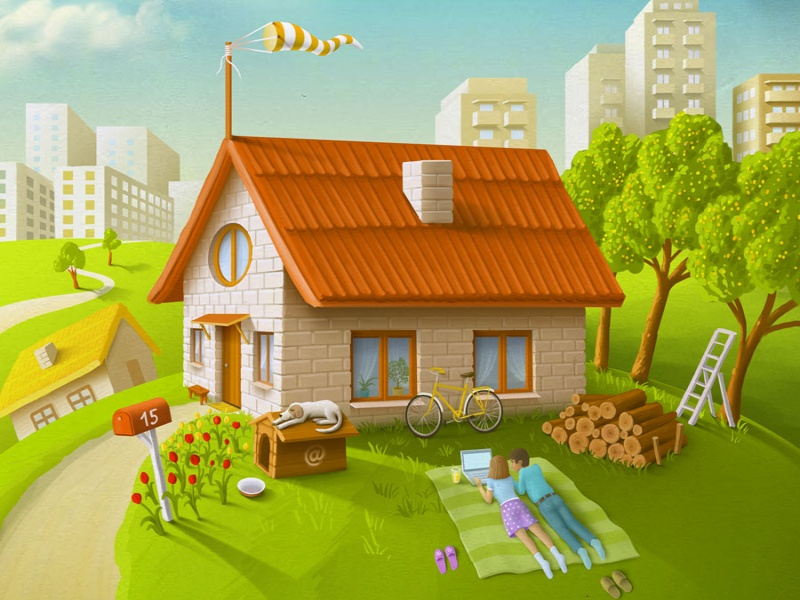window: (352, 329, 418, 395), (476, 330, 533, 387)
